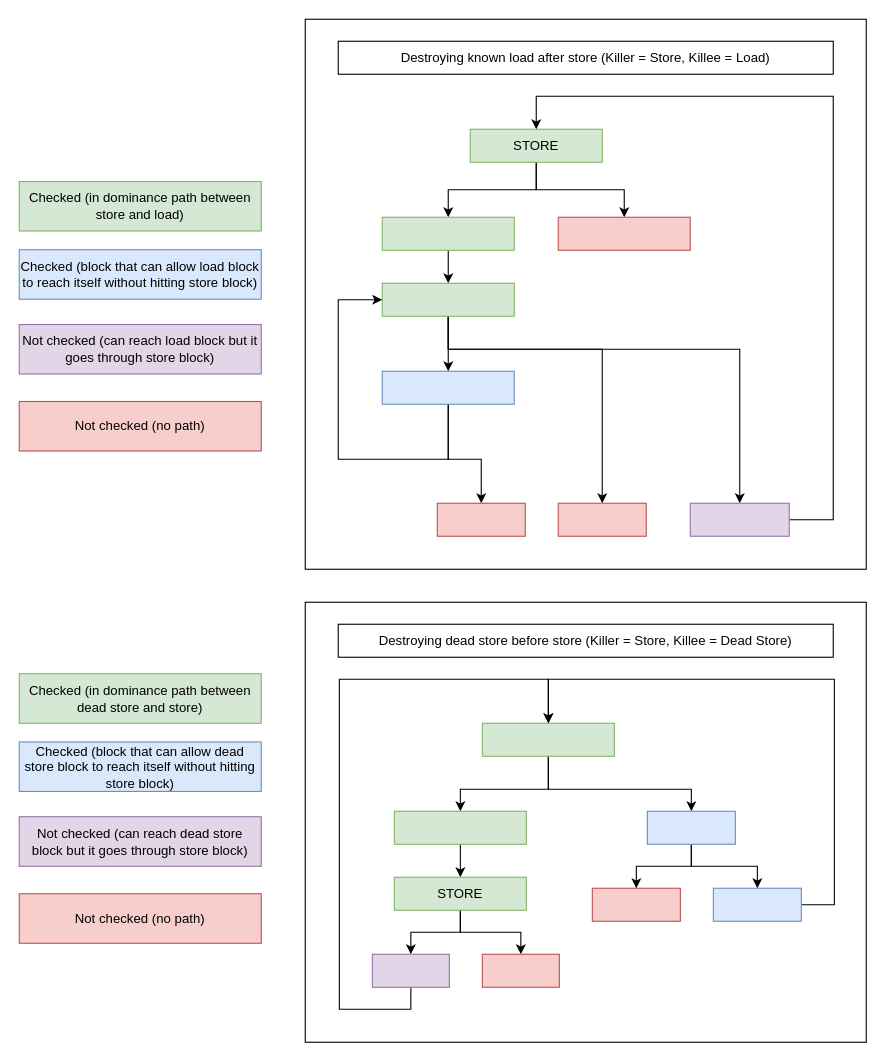
The diagram is 886 pixels wide and 1062 high, and some of its shapes have lost their labels. The centre of each missing label's shape, as x and y in pixels:
"DEAD STORE" goes at point 547,739.
"LOAD" goes at point 447,299.
